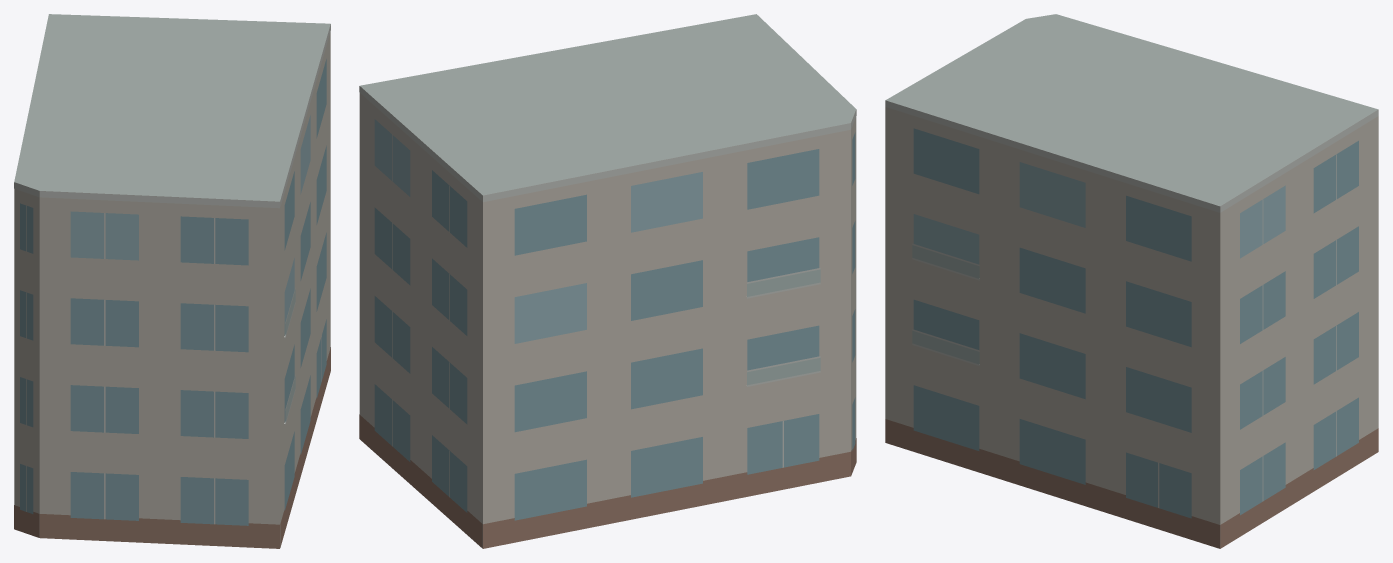
File: survey-upis-32632073.glb
The picture shows the model from 3 angles, left to right: view 1: azimuth 30°, elevation 25°; view 2: azimuth 150°, elevation 25°; view 3: azimuth 270°, elevation 25°; orthographic projection. The views are drawn at different scales.
Visible parts, largest first — view 1: survey-upis-32632073.tmp; view 2: survey-upis-32632073.tmp; view 3: survey-upis-32632073.tmp.
Boxes of the visible parts, x1=… form: survey-upis-32632073.tmp: x1=14, y1=14, x2=330, y2=548; survey-upis-32632073.tmp: x1=359, y1=14, x2=856, y2=548; survey-upis-32632073.tmp: x1=885, y1=14, x2=1378, y2=548.
Size of the model in its own units: 15.55 by 12.9 by 16.85.
